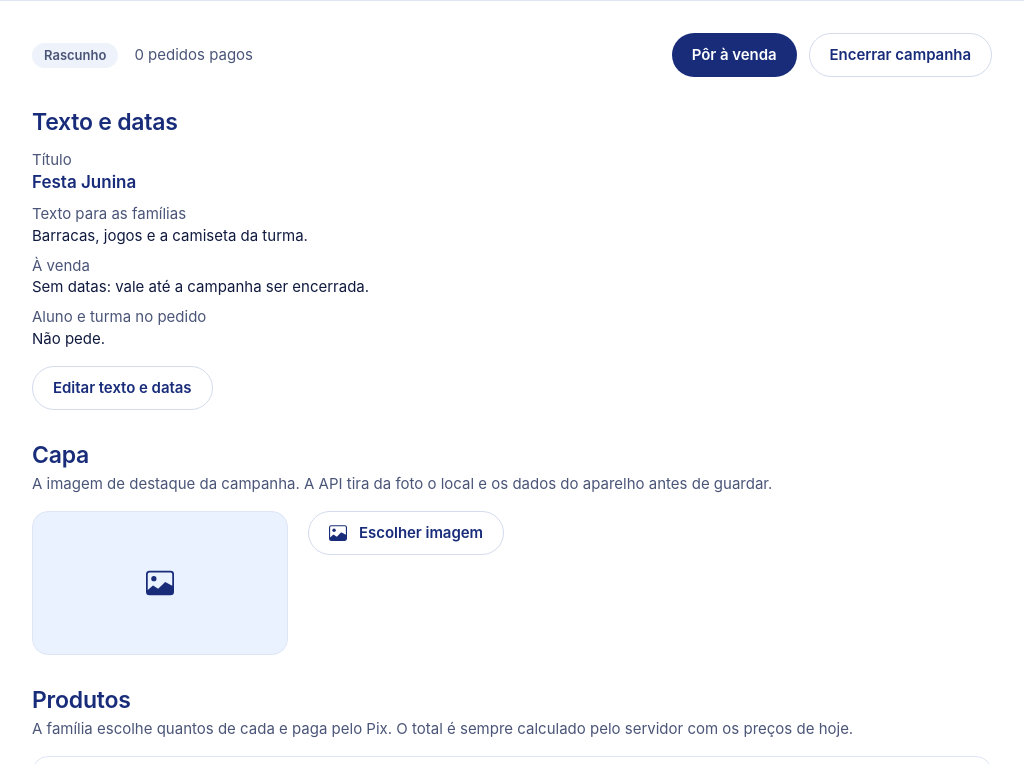
Test: editor de uma campanha › sem produto ligado a API recusa e o texto explica
Expected: the heading "Texto e datas" is shown, [32, 108, 178, 136]
Click the button "Pôr à venda" at [734, 55], box [672, 33, 796, 77]
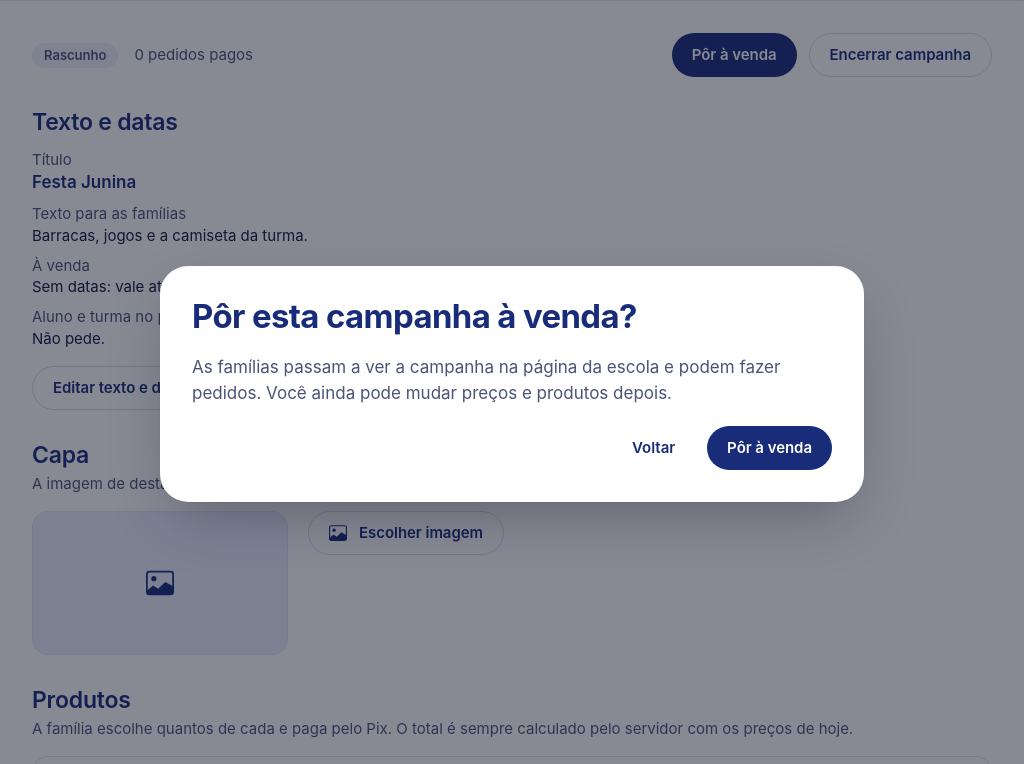
Click the button "Pôr à venda" at [770, 448], box [707, 426, 832, 470]
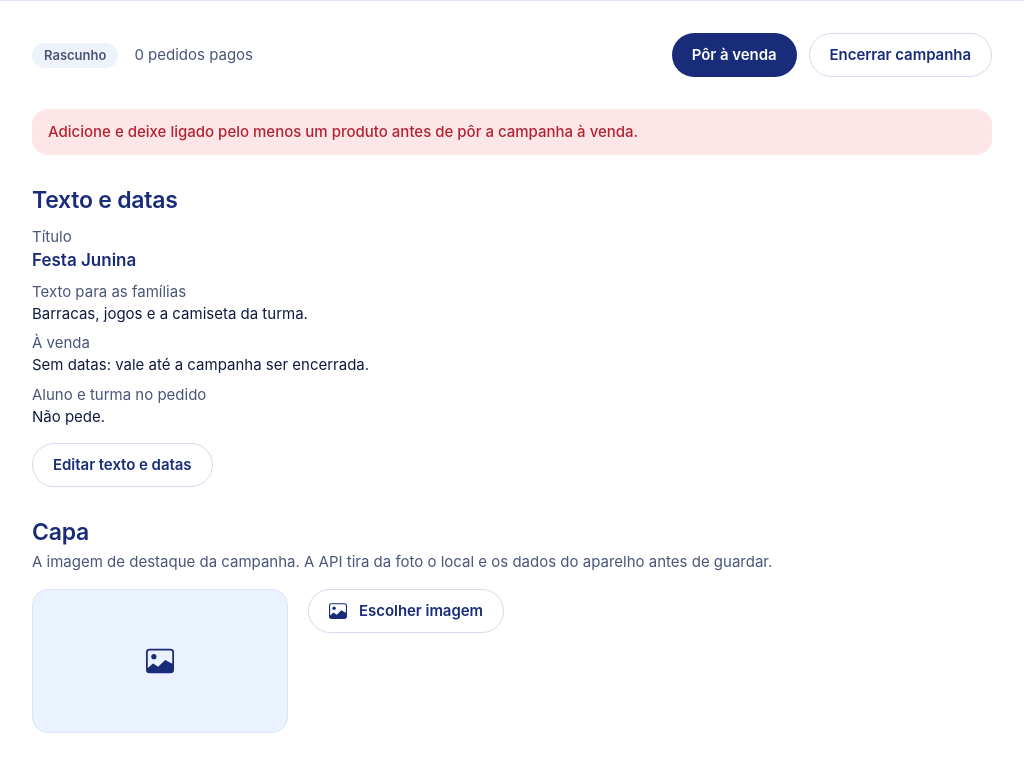
Expected: the message shows "pelo menos um produto", [48, 122, 638, 141]
